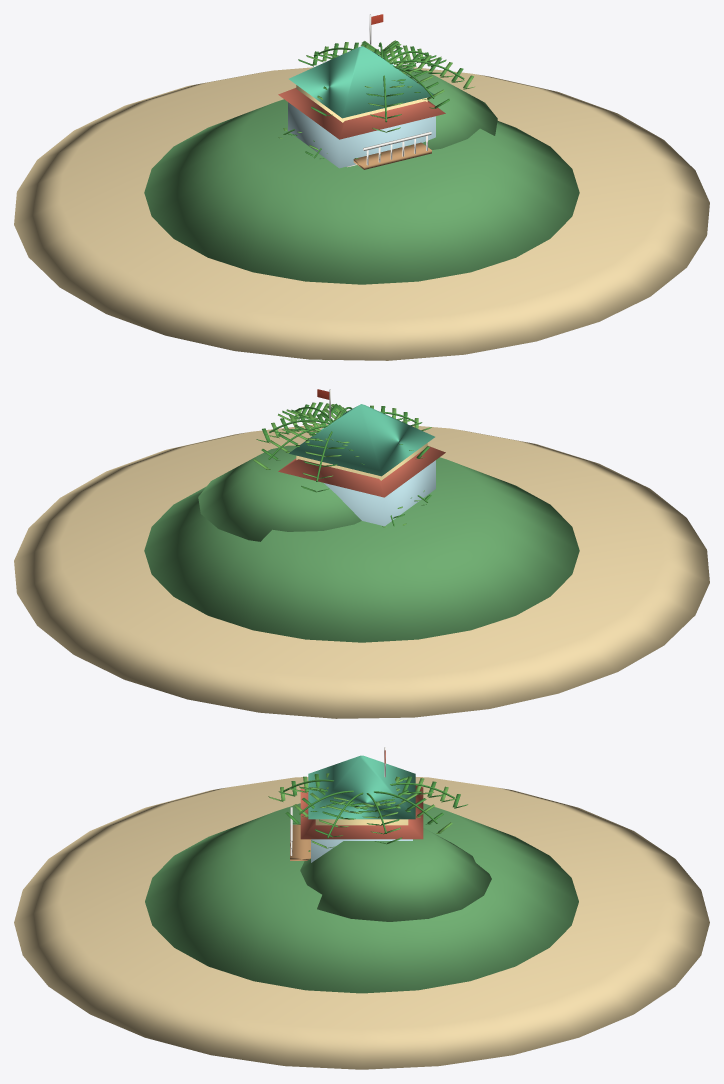
The model's file is props.glb.
3 views of the same model, one above another, from view 1: azimuth 30°, elevation 25°; view 2: azimuth 150°, elevation 25°; view 3: azimuth 270°, elevation 25° (orthographic).
Parts seen in each view (by area): view 1: Island_geo, Hut2_geo, Hut1_geo, Palm_crown_geo; view 2: Island_geo, Hut2_geo, Hut1_geo, Palm_crown_geo; view 3: Island_geo, Hut2_geo, Palm_crown_geo, Hut1_geo.
Boxes of the visible parts, x1,y1,x2,y2 form: Island_geo: [14, 66, 709, 360]; Hut2_geo: [289, 46, 433, 169]; Hut1_geo: [278, 88, 445, 168]; Palm_crown_geo: [298, 40, 474, 132]; Island_geo: [14, 424, 709, 718]; Hut2_geo: [289, 404, 434, 480]; Hut1_geo: [278, 446, 445, 526]; Palm_crown_geo: [253, 402, 431, 492]; Island_geo: [14, 777, 709, 1069]; Hut2_geo: [290, 755, 415, 860]; Palm_crown_geo: [268, 773, 467, 848]; Hut1_geo: [300, 785, 423, 862].
Bounding box in the file's own units: 15 × 4.63 × 15.
